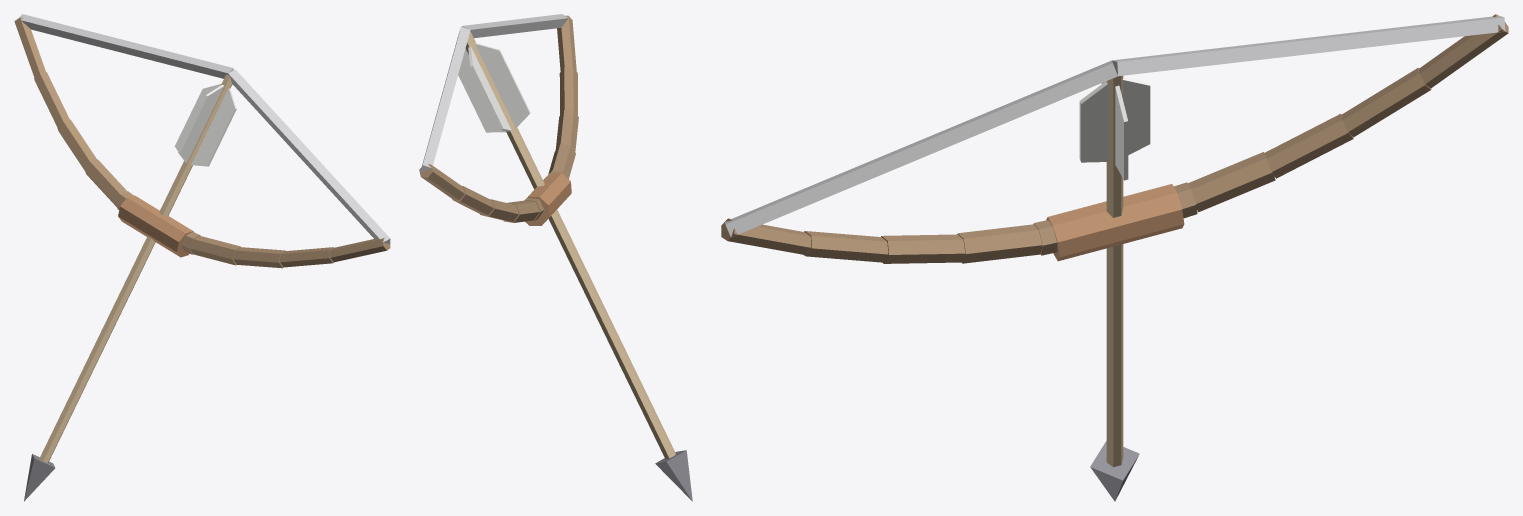
File: bow_pulling_0_held.gltf
3 renders of one model, left to right at view 1: azimuth 30°, elevation 25°; view 2: azimuth 150°, elevation 25°; view 3: azimuth 270°, elevation 25°, orthographic. The views are drawn at different scales.
Parts seen in each view (by area): view 1: archery_bow_pulling_0_held; view 2: archery_bow_pulling_0_held; view 3: archery_bow_pulling_0_held.
Boxes of the visible parts, <box> form: archery_bow_pulling_0_held: <box>14,14,390,501</box>; archery_bow_pulling_0_held: <box>419,14,692,501</box>; archery_bow_pulling_0_held: <box>721,14,1508,501</box>.
Bounding box in the file's own units: 0.3066 × 0.4565 × 0.5416.
